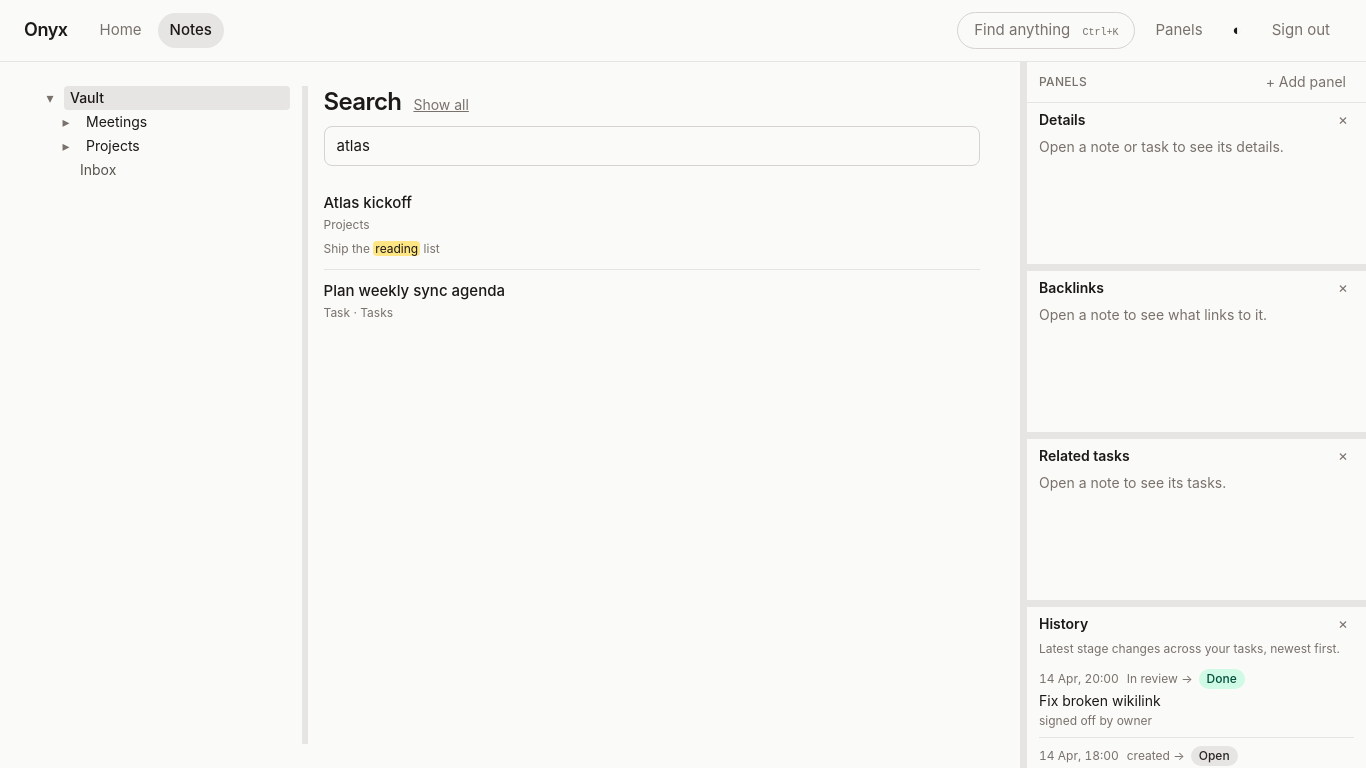
search › "Show all" clears the search box
Expected: the link "Atlas kickoff" is shown, [324, 193, 412, 212]
Click the link "Show all".
click(441, 104)  # box [413, 94, 469, 114]
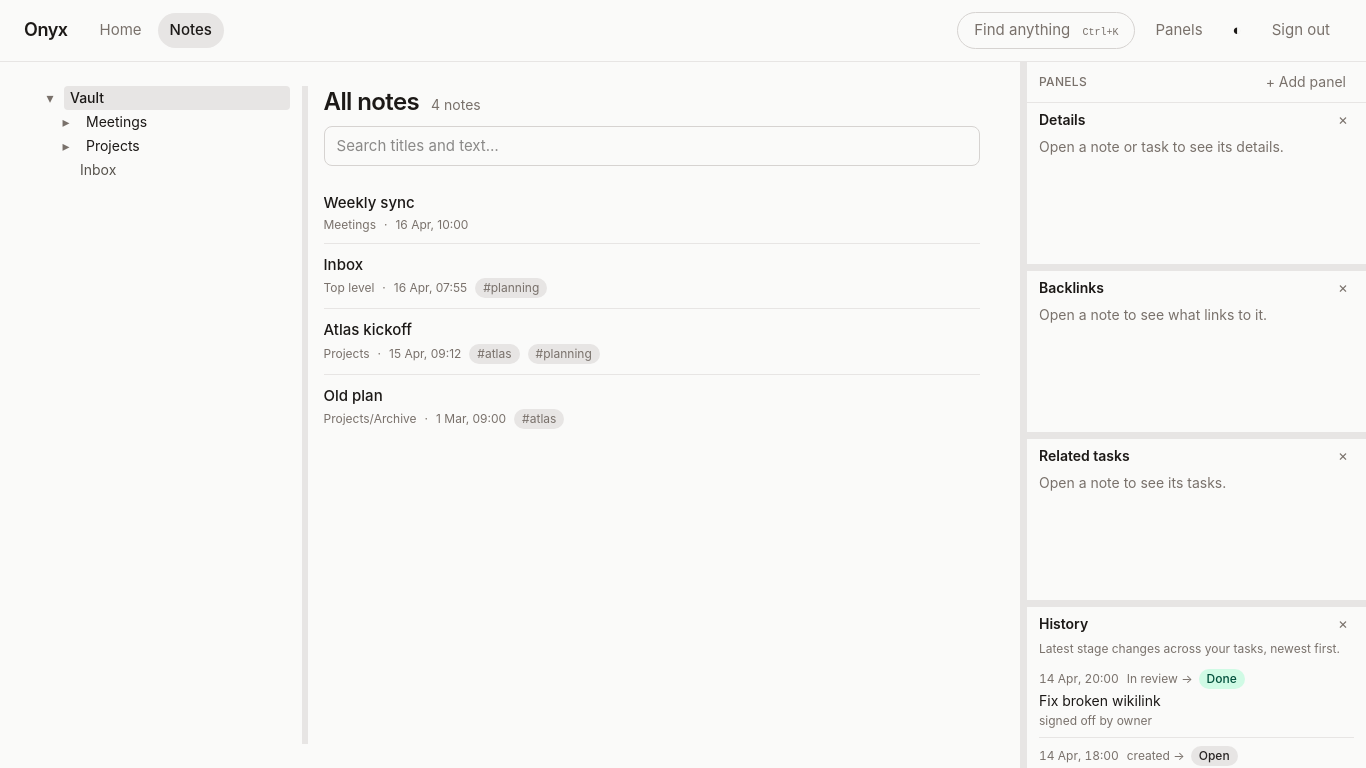
Expected: the heading "All notes" is shown, [324, 86, 419, 118]
Expected: the search field is empty, [324, 126, 980, 166]
